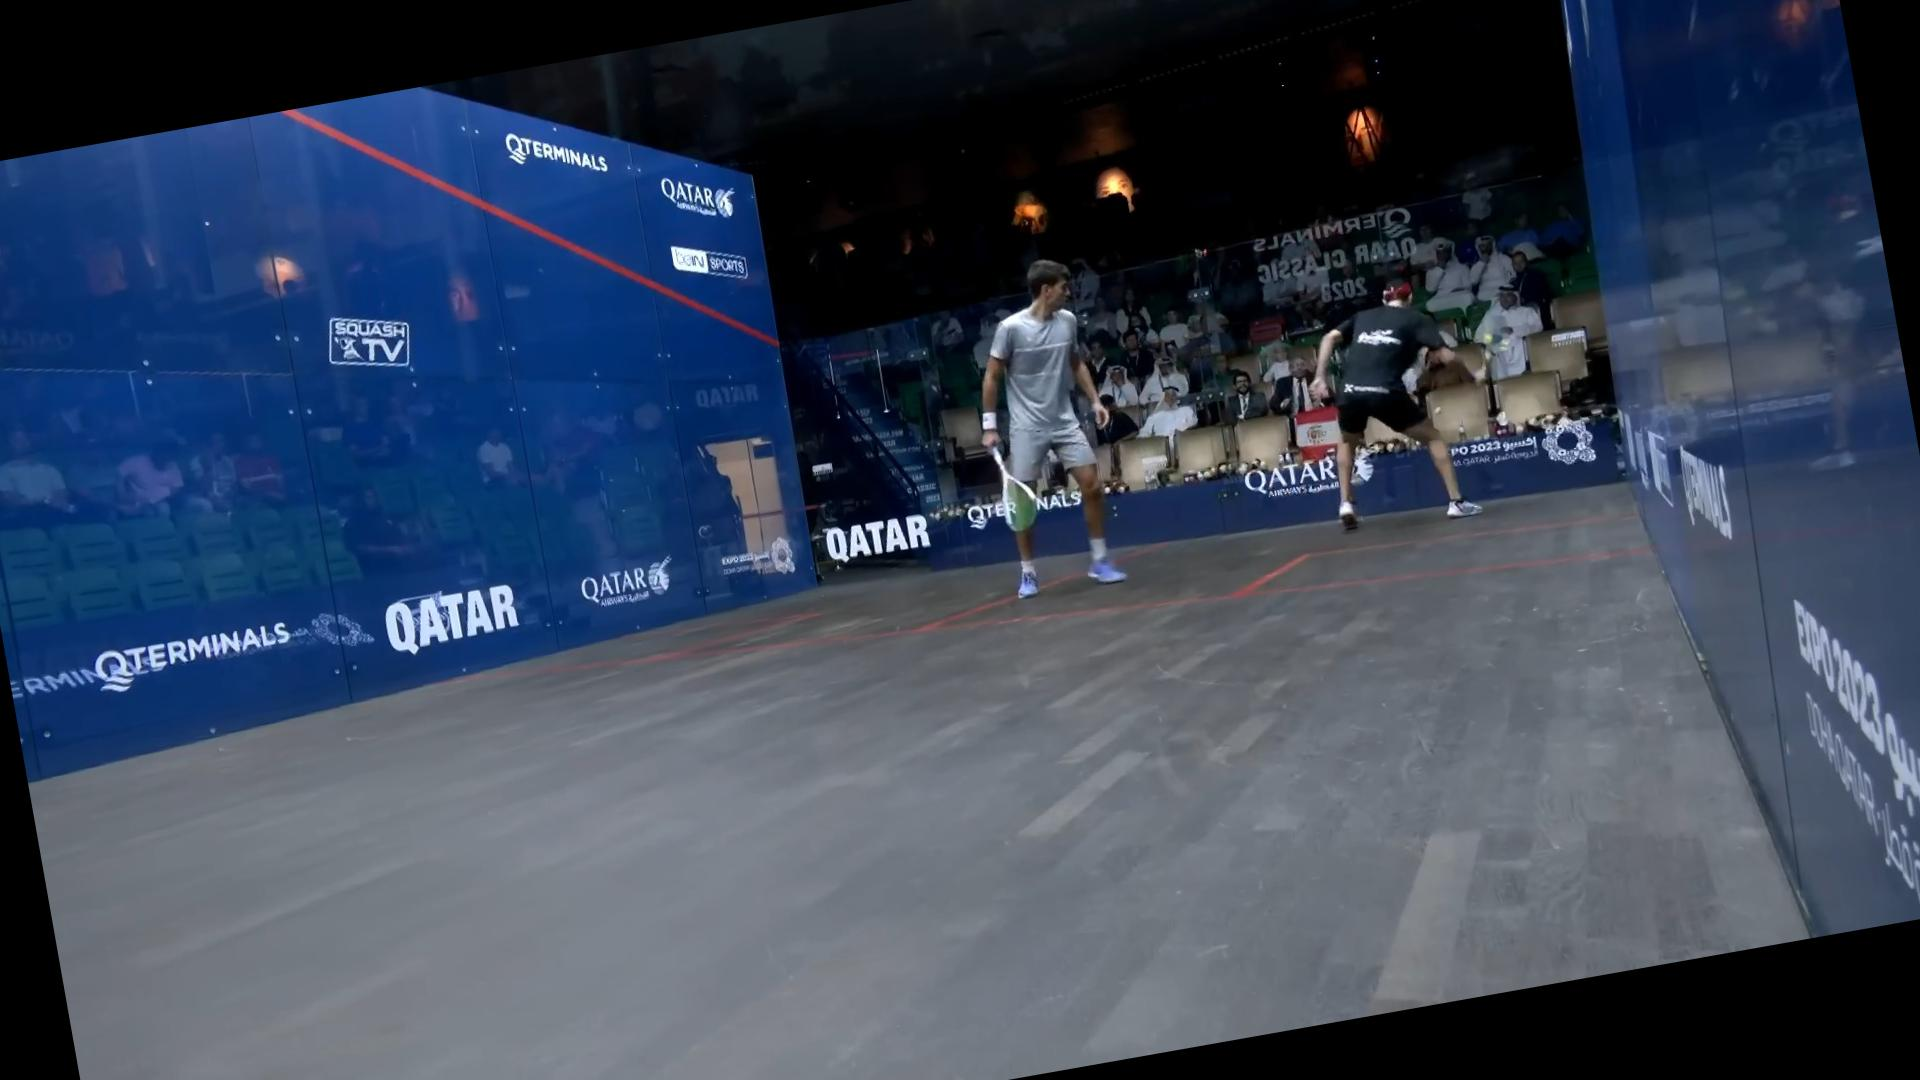Racket: (982, 443, 1050, 535)
